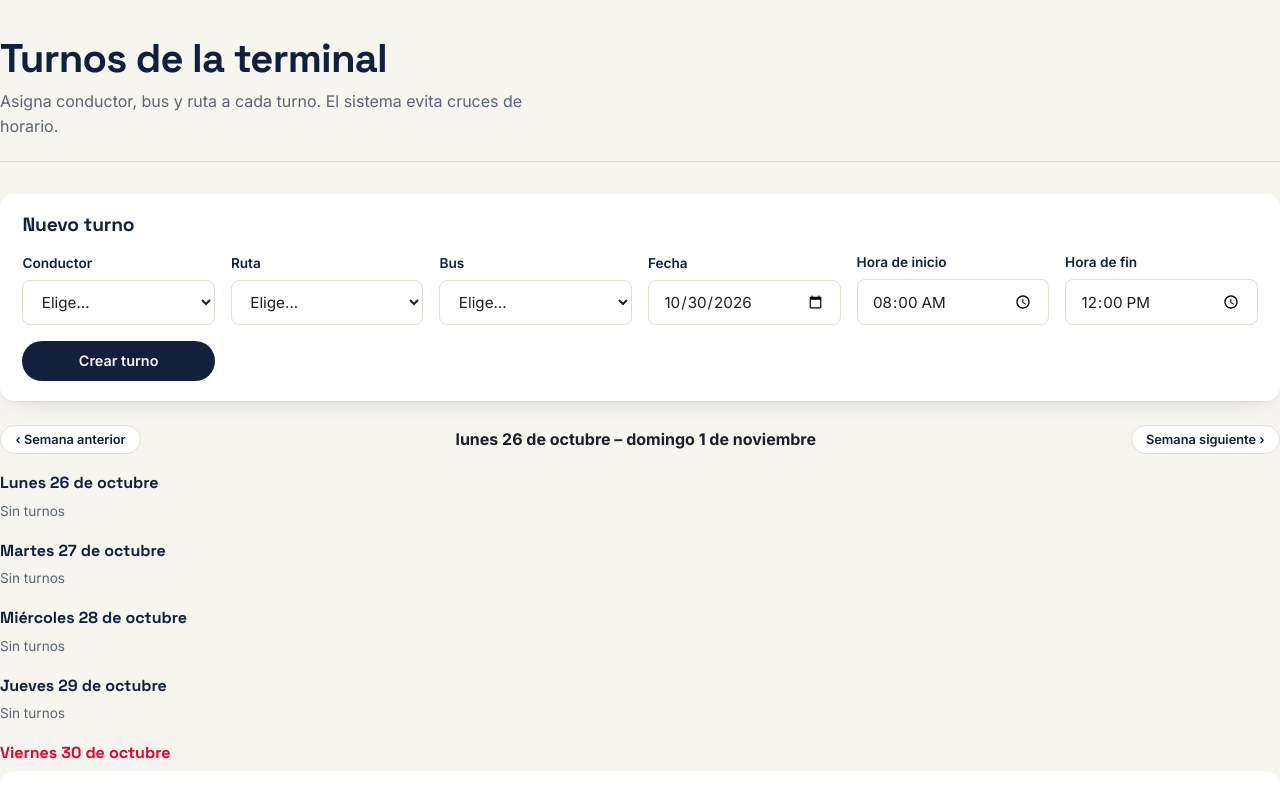
it: AdminTurnos › crea un turno con los datos del formulario
Select "Carlos Ruiz" in the dropdown labelled "Conductor". click: x=119, y=303
box: [22,280,215,325]
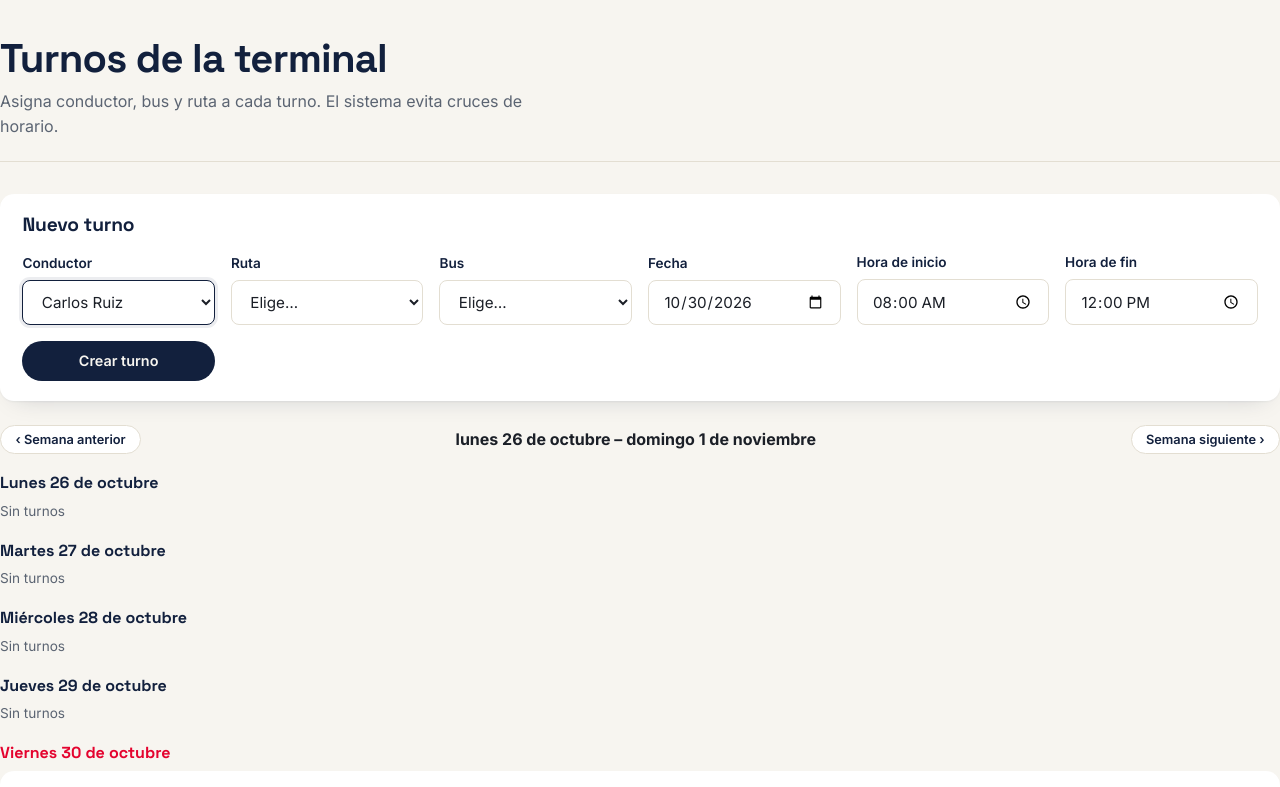
Select "L1 · Terminal Norte - Centro" in the dropdown labelled "Ruta". click: x=327, y=303
box: [231,280,423,325]
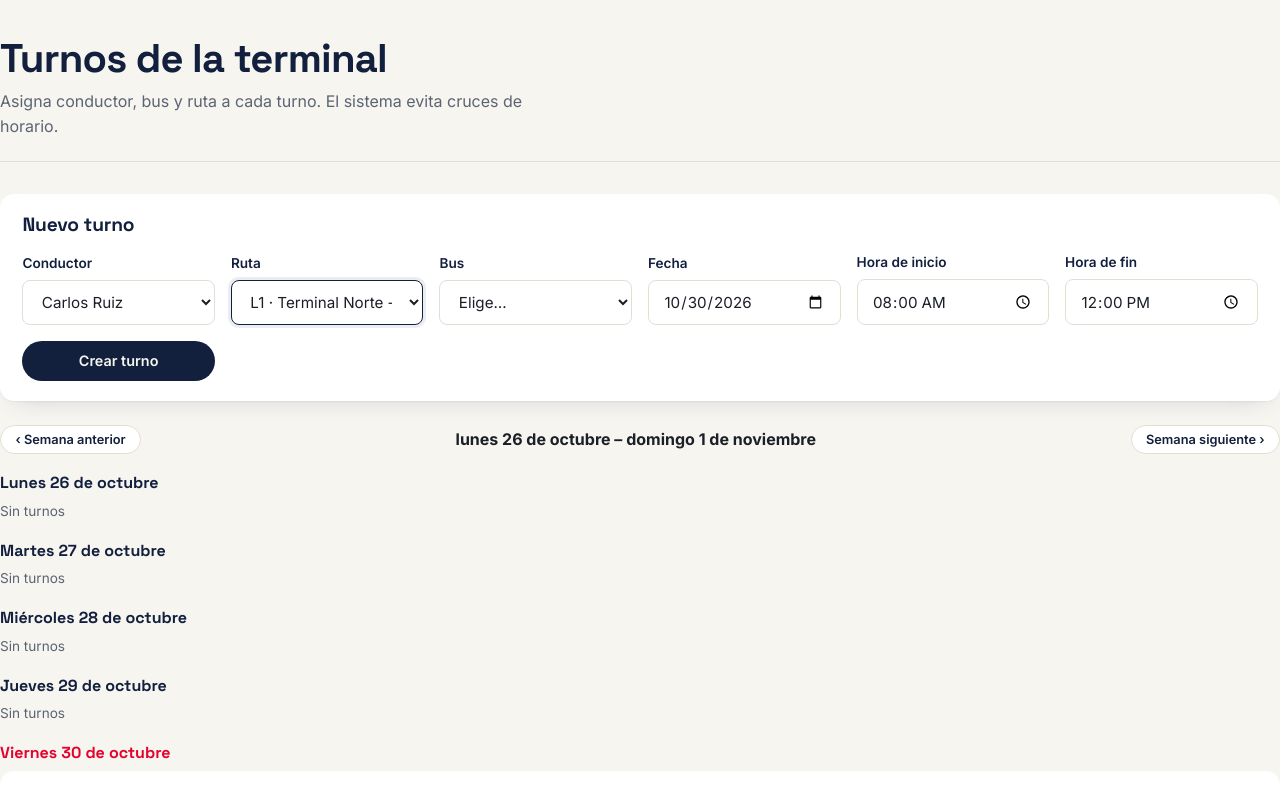
Select "ABCD-11 · Norte" in the dropdown labelled "Bus". click: x=536, y=303
box: [440,280,632,325]
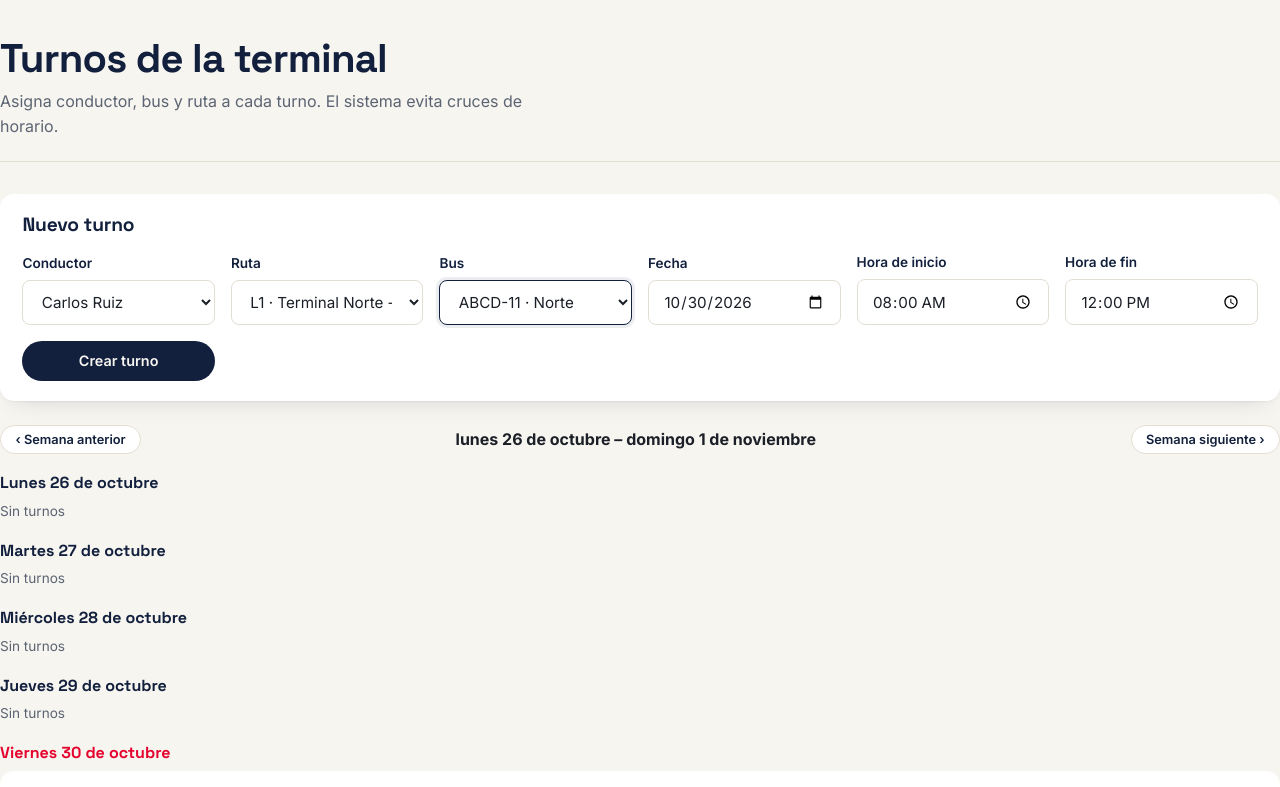
Click the button "Crear turno". click: x=119, y=361
box: [22,341,215,381]
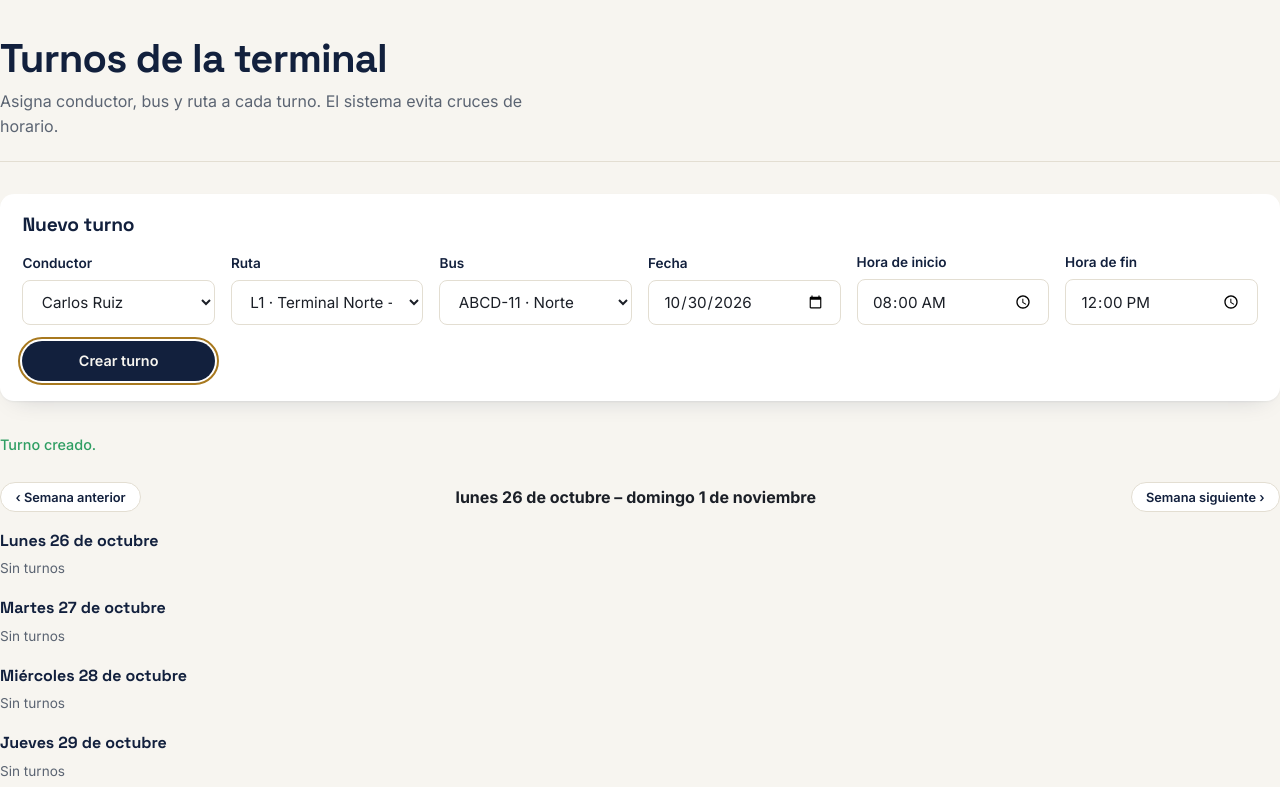
Now the message reads "Turno creado.", box [0,436,96,453]
